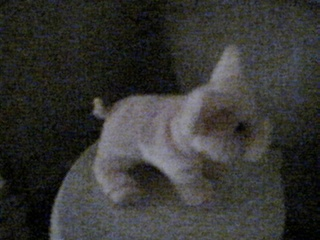piggy: (90, 42, 274, 213)
